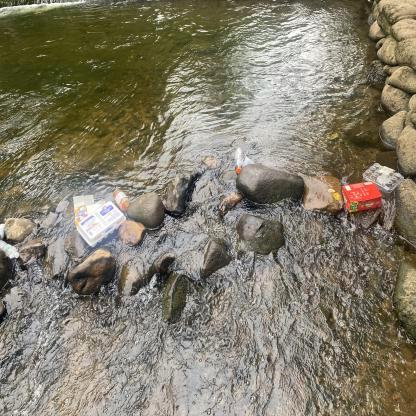Glass: (111, 183, 132, 209)
Plastic: (72, 194, 128, 250), (362, 160, 406, 194), (232, 145, 252, 173)
